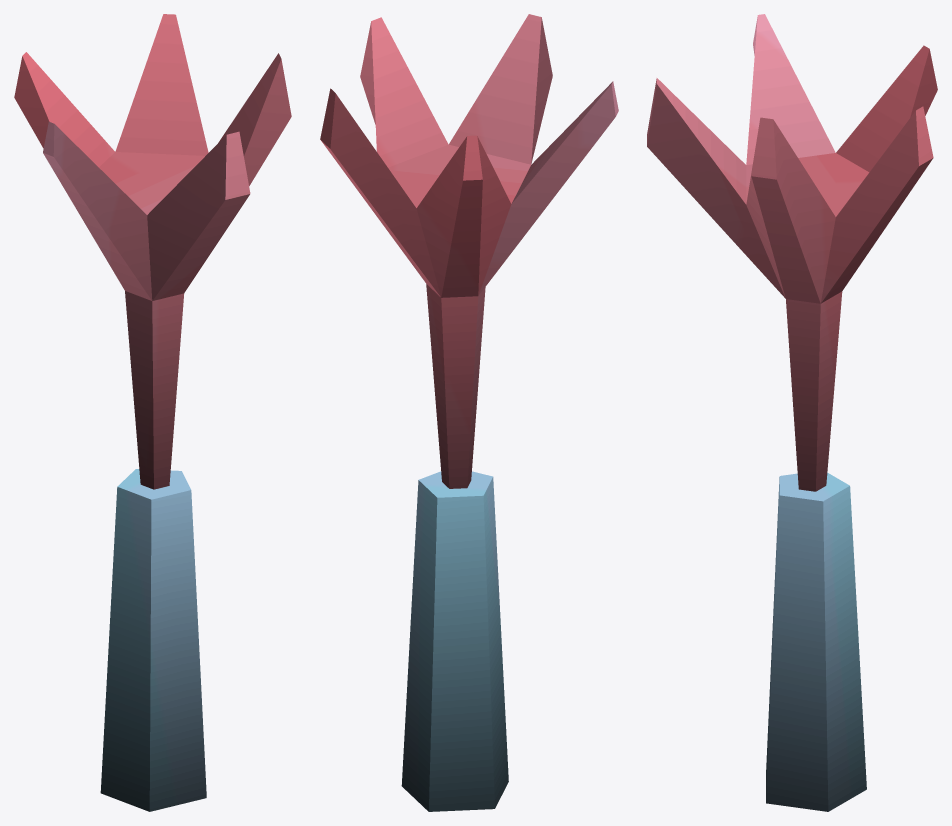
The model's file is sea-feather-01.fbx.
3 renders of one model, left to right at view 1: azimuth 30°, elevation 25°; view 2: azimuth 150°, elevation 25°; view 3: azimuth 270°, elevation 25°, orthographic.
Parts seen in each view (by area): view 1: Feather, Tube; view 2: Feather, Tube; view 3: Feather, Tube.
Boxes of the visible parts, x1=… form: Feather: x1=14, y1=14, x2=291, y2=489; Tube: x1=100, y1=469, x2=206, y2=811; Feather: x1=320, y1=14, x2=618, y2=488; Tube: x1=401, y1=471, x2=508, y2=811; Feather: x1=647, y1=14, x2=937, y2=491; Tube: x1=766, y1=472, x2=866, y2=811.
Bounding box in the file's own units: 12.98 × 36.16 × 13.23.
